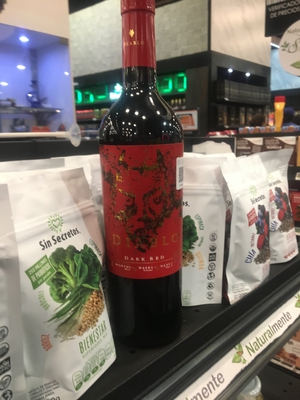diablo dark red: (90, 11, 199, 329)
